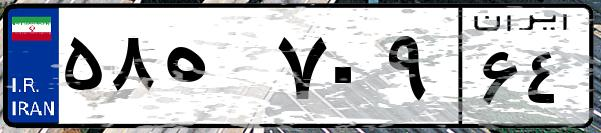0: (330, 28, 385, 110)
4: (525, 38, 570, 115)
5: (57, 26, 110, 100)
6: (475, 38, 525, 113)
7: (270, 28, 330, 110)
8: (110, 28, 158, 98)
9: (385, 28, 445, 110)
ه: (158, 20, 270, 120)
